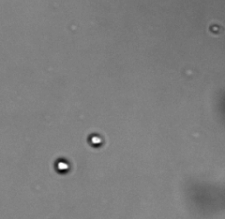Living Cell: (54, 158, 71, 174), (87, 132, 104, 148)
